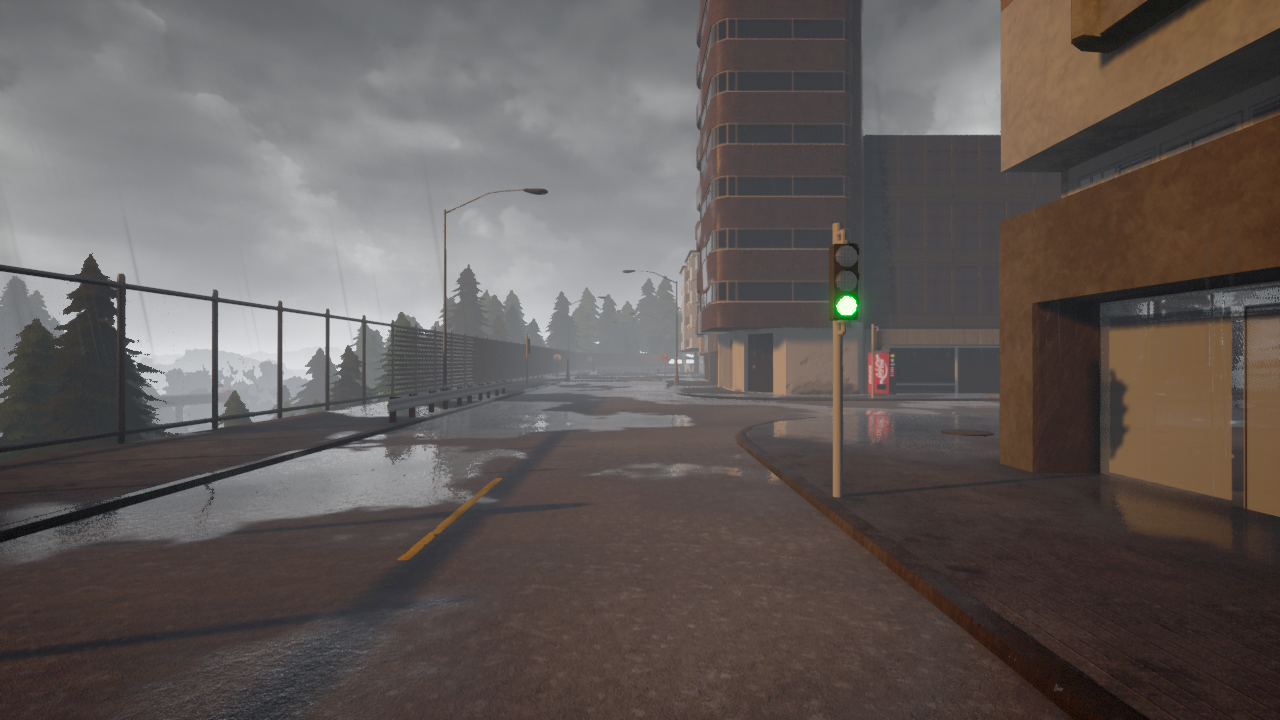green: (826, 242, 861, 318)
